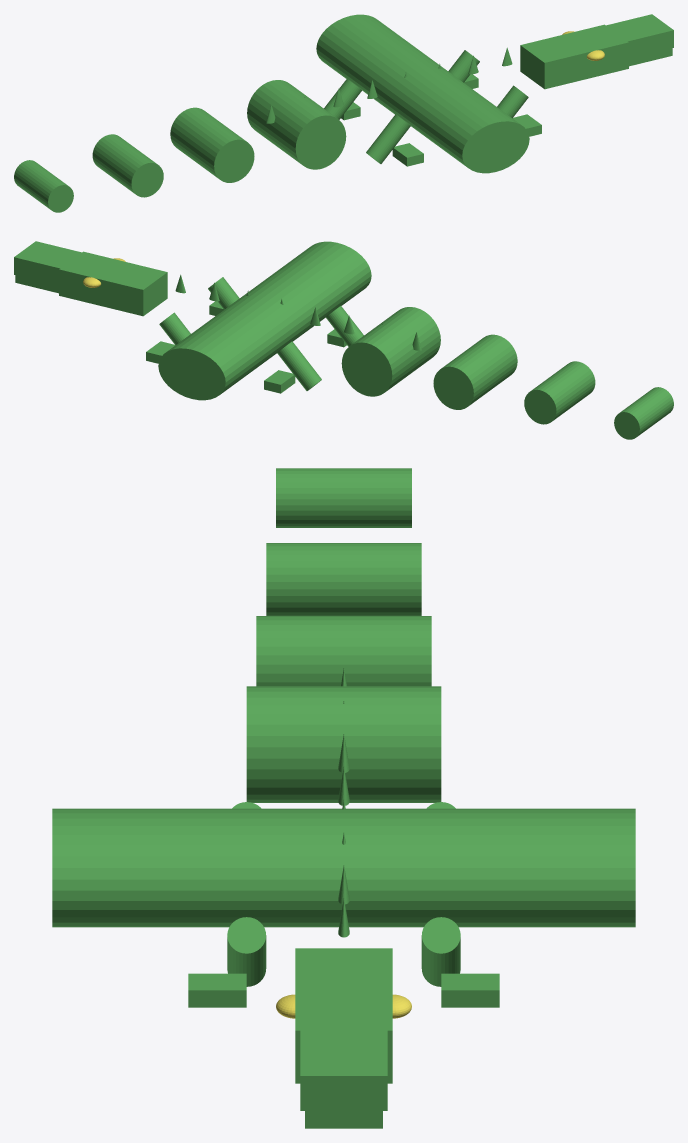
Rendered from crocodile.glb.
3 renders of one model, top to bottom at view 1: azimuth 30°, elevation 25°; view 2: azimuth 150°, elevation 25°; view 3: azimuth 270°, elevation 25°, orthographic. The views are drawn at different scales.
Parts seen in each view (by area): view 1: crocodile_body, crocodile_tail_0, crocodile_head, crocodile_tail_1, crocodile_tail_2, crocodile_upper_jaw, crocodile_tail_3, crocodile_leg_3, crocodile_leg_2, crocodile_leg_1, crocodile_foot_3, crocodile_leg_0 (+2 smaller); view 2: crocodile_body, crocodile_tail_0, crocodile_head, crocodile_tail_1, crocodile_tail_2, crocodile_upper_jaw, crocodile_tail_3, crocodile_leg_2, crocodile_leg_3, crocodile_leg_0, crocodile_foot_2, crocodile_leg_1 (+2 smaller); view 3: crocodile_body, crocodile_tail_0, crocodile_tail_1, crocodile_tail_2, crocodile_head, crocodile_upper_jaw, crocodile_tail_3, crocodile_leg_1, crocodile_leg_0, crocodile_foot_1, crocodile_foot_0, crocodile_lower_jaw.
Part boxes in pixels (bbox=[...]): crocodile_body: bbox=[316, 14, 529, 173]; crocodile_tail_0: bbox=[247, 80, 346, 169]; crocodile_head: bbox=[520, 24, 628, 89]; crocodile_tail_1: bbox=[170, 107, 254, 182]; crocodile_tail_2: bbox=[92, 134, 163, 197]; crocodile_upper_jaw: bbox=[593, 14, 673, 58]; crocodile_tail_3: bbox=[14, 160, 73, 212]; crocodile_leg_3: bbox=[366, 114, 410, 163]; crocodile_leg_2: bbox=[324, 79, 361, 119]; crocodile_leg_1: bbox=[497, 85, 528, 118]; crocodile_foot_3: bbox=[392, 143, 423, 166]; crocodile_leg_0: bbox=[448, 50, 479, 82]; crocodile_body: bbox=[158, 241, 371, 400]; crocodile_tail_0: bbox=[341, 307, 440, 396]; crocodile_head: bbox=[59, 251, 167, 316]; crocodile_tail_1: bbox=[433, 334, 517, 409]; crocodile_tail_2: bbox=[524, 361, 595, 424]; crocodile_upper_jaw: bbox=[14, 241, 94, 285]; crocodile_tail_3: bbox=[614, 387, 673, 439]; crocodile_leg_2: bbox=[277, 341, 321, 390]; crocodile_leg_3: bbox=[326, 306, 363, 346]; crocodile_leg_0: bbox=[159, 312, 190, 345]; crocodile_foot_2: bbox=[264, 370, 295, 393]; crocodile_leg_1: bbox=[208, 277, 239, 309]; crocodile_body: bbox=[52, 808, 635, 927]; crocodile_tail_0: bbox=[246, 686, 441, 802]; crocodile_tail_1: bbox=[256, 616, 431, 686]; crocodile_tail_2: bbox=[266, 543, 421, 615]; crocodile_head: bbox=[295, 948, 392, 1083]; crocodile_upper_jaw: bbox=[300, 1018, 387, 1110]; crocodile_tail_3: bbox=[276, 468, 411, 527]; crocodile_leg_1: bbox=[227, 917, 266, 986]; crocodile_leg_0: bbox=[421, 917, 460, 986]; crocodile_foot_1: bbox=[188, 973, 246, 1007]; crocodile_foot_0: bbox=[441, 973, 499, 1007]; crocodile_lower_jaw: bbox=[305, 1111, 382, 1128].
Size of the model in its own units: 7.5 by 0.6975 by 3.
